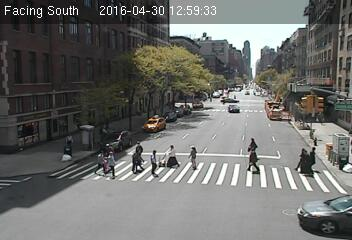neg: (19, 49, 43, 81), (330, 132, 351, 162), (237, 36, 256, 61), (80, 56, 99, 81), (259, 46, 276, 68), (303, 95, 319, 115), (34, 146, 49, 165), (28, 174, 42, 193), (228, 100, 238, 114)
pos: (238, 134, 265, 171), (181, 143, 202, 171), (145, 149, 165, 175), (101, 152, 120, 177), (293, 146, 311, 171), (162, 144, 179, 166), (129, 140, 145, 162)
